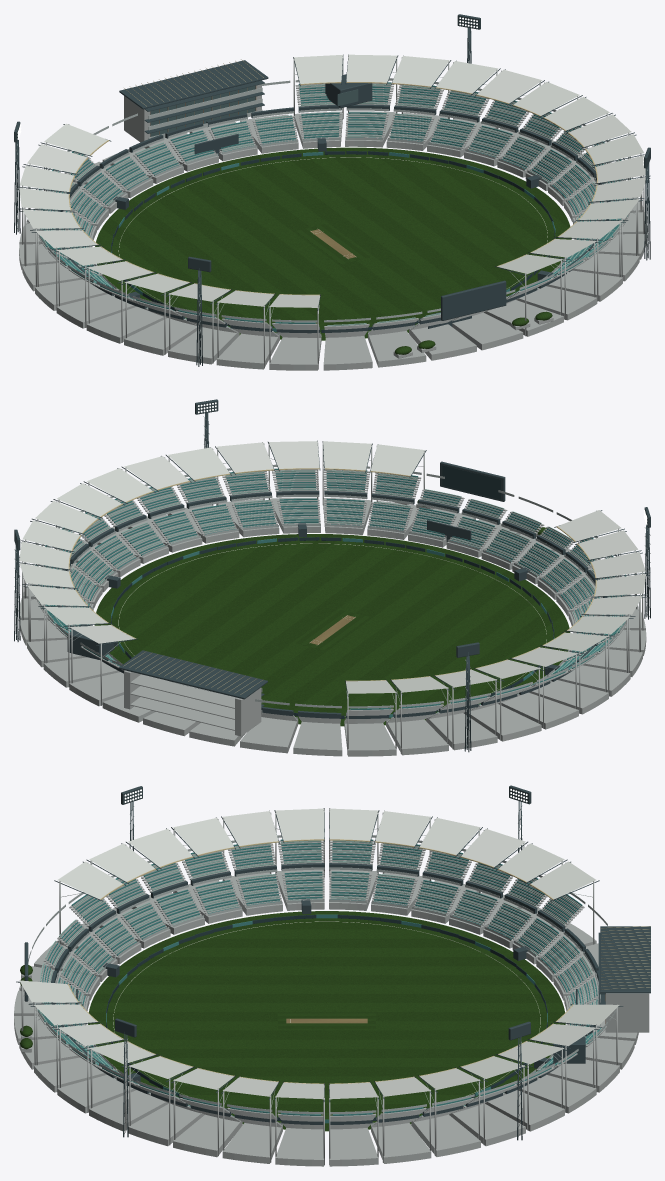
File: stadium.glb
3 renders of one model, top to bottom at view 1: azimuth 30°, elevation 25°; view 2: azimuth 150°, elevation 25°; view 3: azimuth 270°, elevation 25°, orthographic. The views are drawn at different scales.
Visible parts, largest first — view 1: Living turf_geometry, Warm architectural concrete_geometry, Ivory tension canopy_geometry, Charcoal steel_geometry, Deep teal seats_geometry, Brushed rail_geometry, Sea glass seats_geometry, Champagne accents_geometry, Boundary graphite_geometry, Pavilion smoked glazing_geometry; view 2: Living turf_geometry, Warm architectural concrete_geometry, Ivory tension canopy_geometry, Charcoal steel_geometry, Deep teal seats_geometry, Sea glass seats_geometry, Brushed rail_geometry, Champagne accents_geometry, Boundary graphite_geometry, LIVE_Scoreboard_display; view 3: Living turf_geometry, Warm architectural concrete_geometry, Ivory tension canopy_geometry, Deep teal seats_geometry, Charcoal steel_geometry, Sea glass seats_geometry, Brushed rail_geometry, Champagne accents_geometry, Boundary graphite_geometry.
Boxes of the visible parts, bbox=[...] form: Living turf_geometry: bbox=[95, 147, 571, 354]; Warm architectural concrete_geometry: bbox=[19, 56, 647, 370]; Ivory tension canopy_geometry: bbox=[19, 54, 645, 307]; Charcoal steel_geometry: bbox=[14, 14, 650, 366]; Deep teal seats_geometry: bbox=[34, 82, 631, 331]; Brushed rail_geometry: bbox=[16, 39, 648, 361]; Sea glass seats_geometry: bbox=[41, 84, 621, 326]; Champagne accents_geometry: bbox=[68, 59, 597, 295]; Boundary graphite_geometry: bbox=[111, 151, 555, 332]; Pavilion smoked glazing_geometry: bbox=[150, 85, 358, 136]; Living turf_geometry: bbox=[94, 500, 570, 726]; Warm architectural concrete_geometry: bbox=[20, 442, 646, 756]; Ivory tension canopy_geometry: bbox=[19, 441, 645, 693]; Charcoal steel_geometry: bbox=[14, 399, 650, 752]; Deep teal seats_geometry: bbox=[34, 468, 626, 717]; Sea glass seats_geometry: bbox=[45, 470, 623, 712]; Brushed rail_geometry: bbox=[14, 416, 650, 749]; Champagne accents_geometry: bbox=[68, 468, 596, 694]; Boundary graphite_geometry: bbox=[111, 537, 554, 718]; LIVE_Scoreboard_display: bbox=[442, 465, 500, 499]; Living turf_geometry: bbox=[20, 911, 565, 1131]; Warm architectural concrete_geometry: bbox=[14, 810, 649, 1166]; Ivory tension canopy_geometry: bbox=[19, 808, 619, 1099]; Deep teal seats_geometry: bbox=[35, 839, 604, 1123]; Charcoal steel_geometry: bbox=[16, 785, 650, 1140]; Sea glass seats_geometry: bbox=[38, 840, 601, 1116]; Brushed rail_geometry: bbox=[24, 805, 619, 1136]; Champagne accents_geometry: bbox=[68, 839, 650, 1084]; Boundary graphite_geometry: bbox=[106, 914, 547, 1120].
Size of the model in its own units: 192 by 34.83 by 176.
14 materials, 2 textured.
